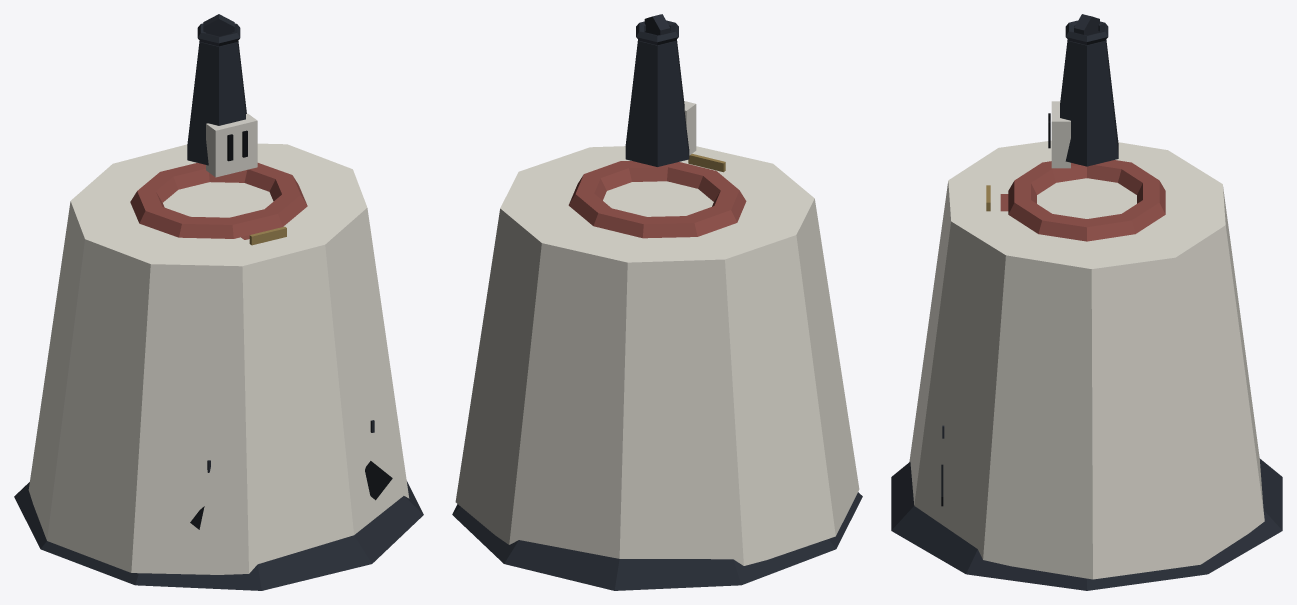
Rendered from armfree-bell-v1.glb.
3 views of the same model, side by side, from view 1: azimuth 30°, elevation 25°; view 2: azimuth 150°, elevation 25°; view 3: azimuth 270°, elevation 25° (orthographic).
Visible parts, largest first — view 1: Arm-Free Concepts · Bell; view 2: Arm-Free Concepts · Bell; view 3: Arm-Free Concepts · Bell.
Part boxes in pixels (left/top/right/bottom): Arm-Free Concepts · Bell: left=14, top=14, right=423, bottom=590; Arm-Free Concepts · Bell: left=452, top=14, right=862, bottom=590; Arm-Free Concepts · Bell: left=891, top=14, right=1282, bottom=590.
Bounding box in the file's own units: 3.84 × 5.29 × 3.65.
